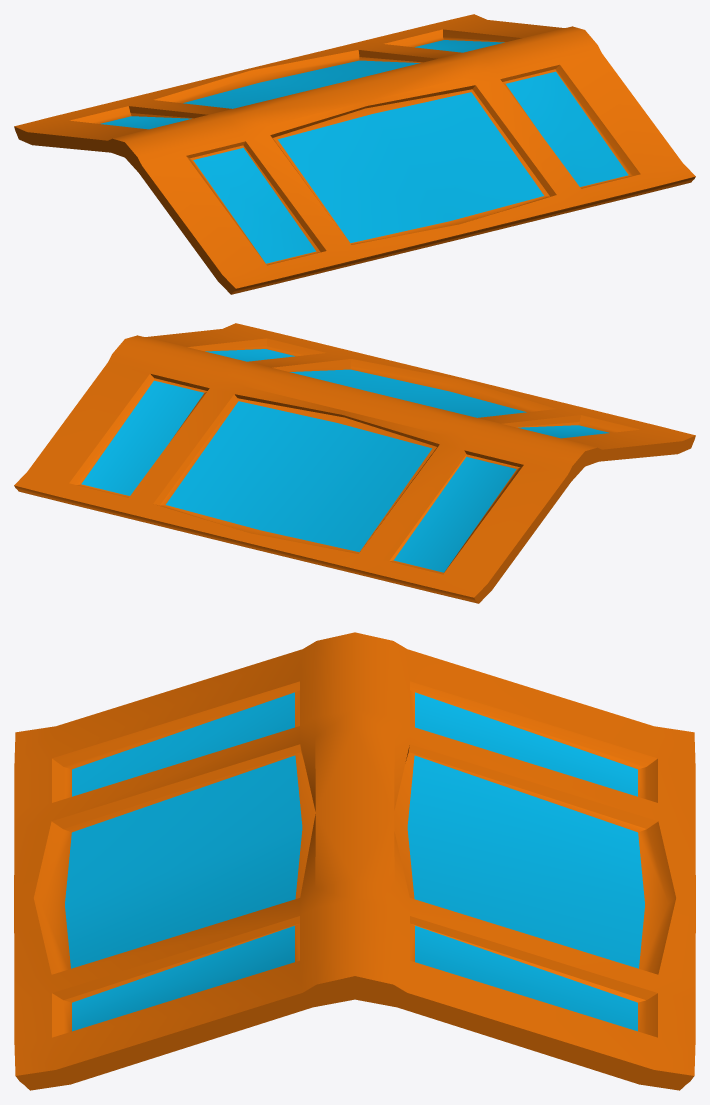
The model's file is Roof.fbx.
3 renders of one model, top to bottom at view 1: azimuth 30°, elevation 25°; view 2: azimuth 150°, elevation 25°; view 3: azimuth 270°, elevation 25°, orthographic. The views are drawn at different scales.
Visible parts, largest first — view 1: Plane.001; view 2: Plane.001; view 3: Plane.001.
Boxes of the visible parts, left/top/right/bottom form: Plane.001: left=14, top=14, right=695, bottom=294; Plane.001: left=14, top=323, right=695, bottom=603; Plane.001: left=14, top=632, right=695, bottom=1090.
Bounding box in the file's own units: 21444 × 3334 × 17983.
